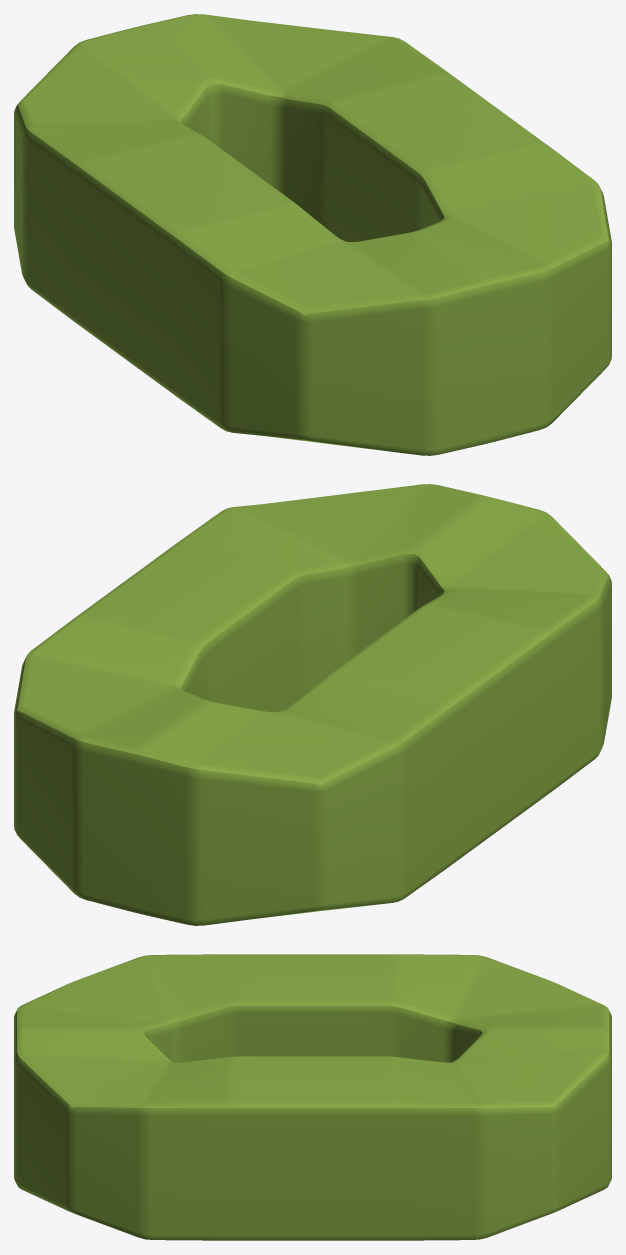
3 views of the same model, one above another, from view 1: azimuth 30°, elevation 25°; view 2: azimuth 150°, elevation 25°; view 3: azimuth 270°, elevation 25° (orthographic). The views are drawn at different scales.
Parts seen in each view (by area): view 1: pasted__pasted__pCube2; view 2: pasted__pasted__pCube2; view 3: pasted__pasted__pCube2.
Boxes of the visible parts, bbox=[...] form: pasted__pasted__pCube2: bbox=[14, 14, 611, 455]; pasted__pasted__pCube2: bbox=[14, 484, 611, 925]; pasted__pasted__pCube2: bbox=[14, 954, 611, 1240].
Bounding box in the file's own units: 2.46 × 1.02 × 3.99.
